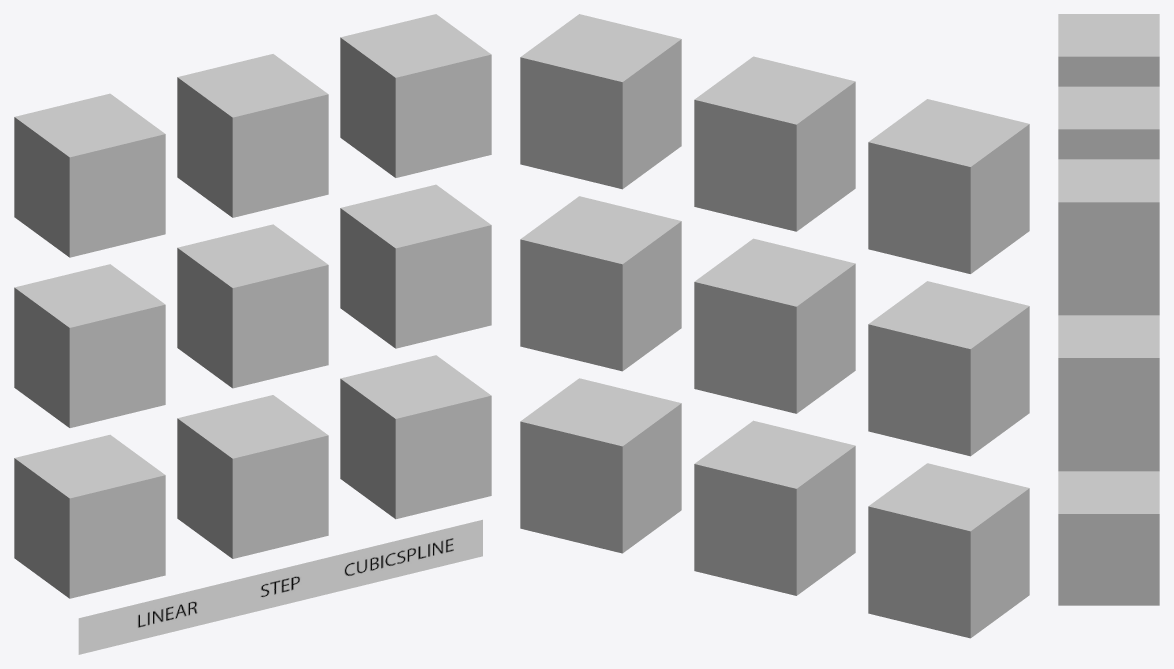
File: InterpolationTest.glb
3 views of the same model, side by side, from view 1: azimuth 30°, elevation 25°; view 2: azimuth 150°, elevation 25°; view 3: azimuth 270°, elevation 25° (orthographic). The views are drawn at different scales.
Parts seen in each view (by area): view 1: Cube.003, Cube, Cube.009, Cube.001, Cube.002, Cube.005, Cube.004, Cube.006, Cube.008, Plane; view 2: Cube.003, Cube.004, Cube.005, Cube.001, Cube.006, Cube.008, Cube, Cube.002, Cube.009; view 3: Cube.002, Cube.004, Cube.008, Cube.006, Cube.009, Cube, Cube.003.
Boxes of the visible parts, box(x1,y1,x2,y2) form: Cube.003: box(177, 224, 328, 388); Cube: box(177, 395, 328, 558); Cube.009: box(14, 93, 165, 257); Cube.001: box(14, 434, 165, 598); Cube.002: box(340, 355, 491, 519); Cube.005: box(14, 264, 165, 427); Cube.004: box(340, 184, 491, 348); Cube.006: box(177, 54, 328, 217); Cube.008: box(340, 14, 491, 177); Plane: box(78, 519, 482, 654); Cube.003: box(694, 238, 855, 413); Cube.004: box(520, 196, 681, 371); Cube.005: box(868, 281, 1029, 456); Cube.001: box(868, 463, 1029, 638); Cube.006: box(694, 56, 855, 231); Cube.008: box(520, 14, 681, 189); Cube: box(694, 420, 855, 595); Cube.002: box(520, 378, 681, 553); Cube.009: box(868, 99, 1029, 273); Cube.002: box(1058, 471, 1159, 605); Cube.004: box(1058, 315, 1159, 449); Cube.008: box(1058, 159, 1159, 293); Cube.006: box(1058, 86, 1159, 159); Cube.009: box(1058, 14, 1159, 86); Cube: box(1058, 449, 1159, 471); Cube.003: box(1058, 294, 1159, 315).
Size of the model in its own units: 8.8 by 9.96 by 2.
2 materials, 1 textured.
